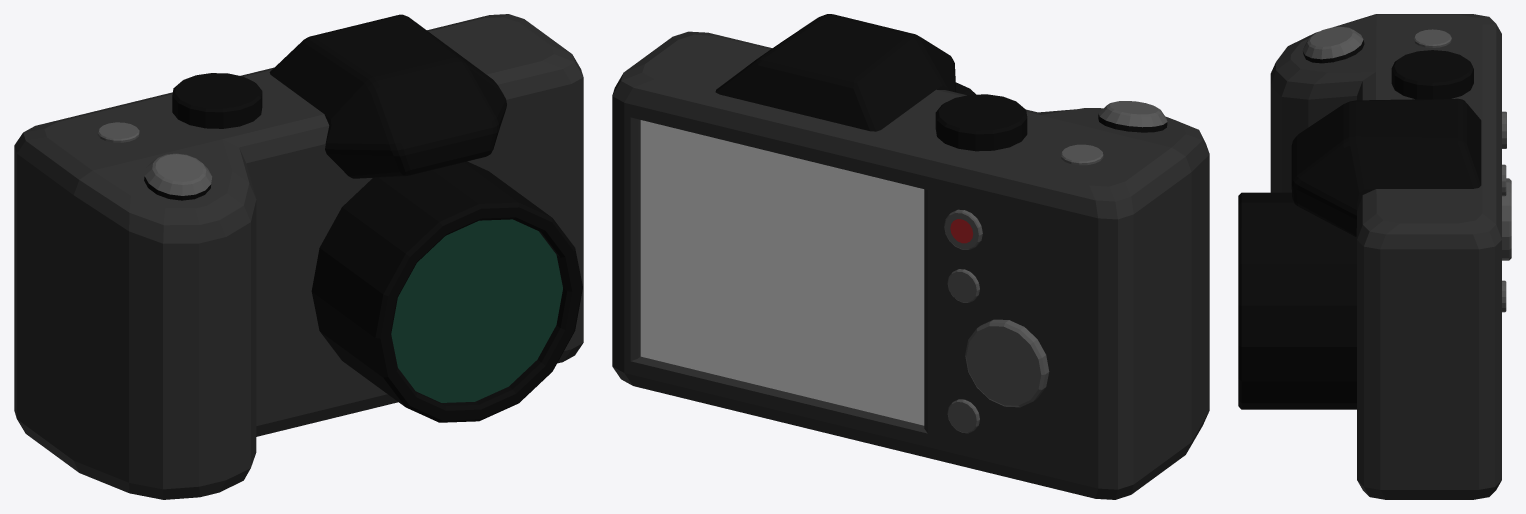
File: Camera 1.fbx
The picture shows the model from 3 angles, left to right: view 1: azimuth 30°, elevation 25°; view 2: azimuth 150°, elevation 25°; view 3: azimuth 270°, elevation 25°; orthographic projection. The views are drawn at different scales.
Parts seen in each view (by area): view 1: CurrentUnityCamera; view 2: CurrentUnityCamera, Plane; view 3: CurrentUnityCamera.
Part boxes in pixels (left/top/right/bottom): CurrentUnityCamera: left=14, top=14, right=583, bottom=499; CurrentUnityCamera: left=612, top=14, right=1209, bottom=499; Plane: left=640, top=120, right=924, bottom=425; CurrentUnityCamera: left=1238, top=14, right=1511, bottom=499.
Size of the model in its own units: 16.49 by 10.53 by 8.46.
